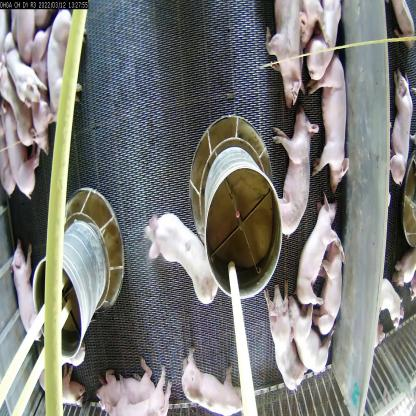Pig: (146, 198, 224, 328), (2, 232, 47, 346), (310, 61, 352, 178), (274, 106, 308, 250), (184, 344, 250, 415), (280, 288, 329, 379), (263, 5, 306, 107), (260, 290, 298, 403), (48, 3, 83, 122), (103, 360, 168, 416), (3, 115, 39, 213), (0, 36, 47, 109), (320, 223, 346, 350), (294, 212, 329, 304)
